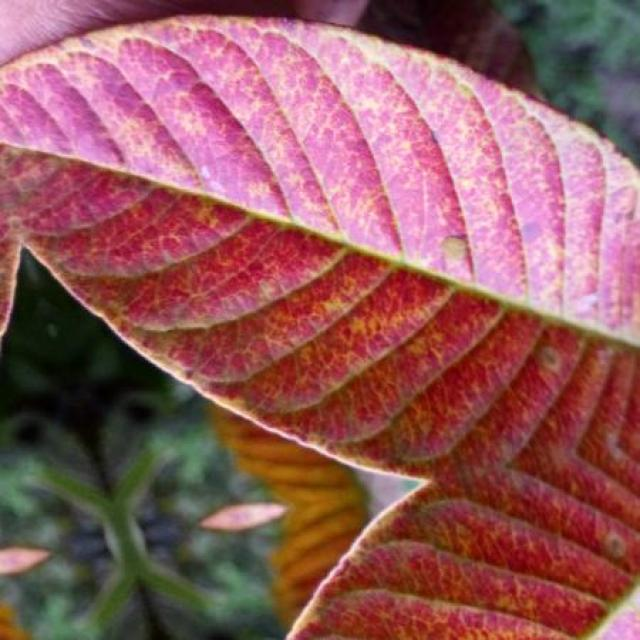Red Rust: (0, 16, 640, 640)
